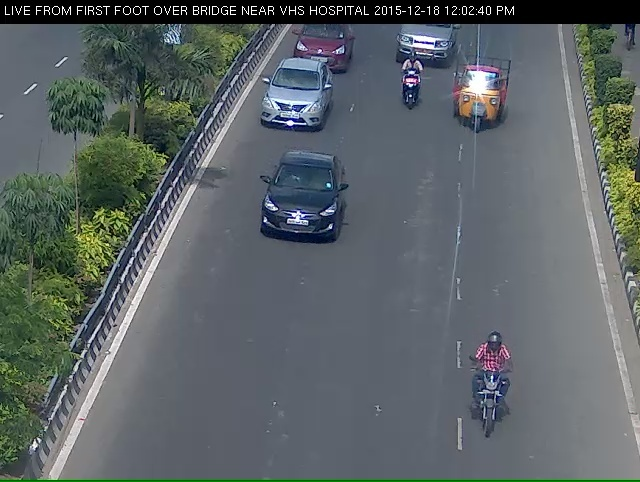Auto: (456, 63, 507, 141)
Car: (258, 172, 345, 257), (250, 68, 324, 136), (390, 22, 458, 61), (289, 30, 351, 71)
Person: (475, 364, 509, 457), (393, 60, 424, 114)
